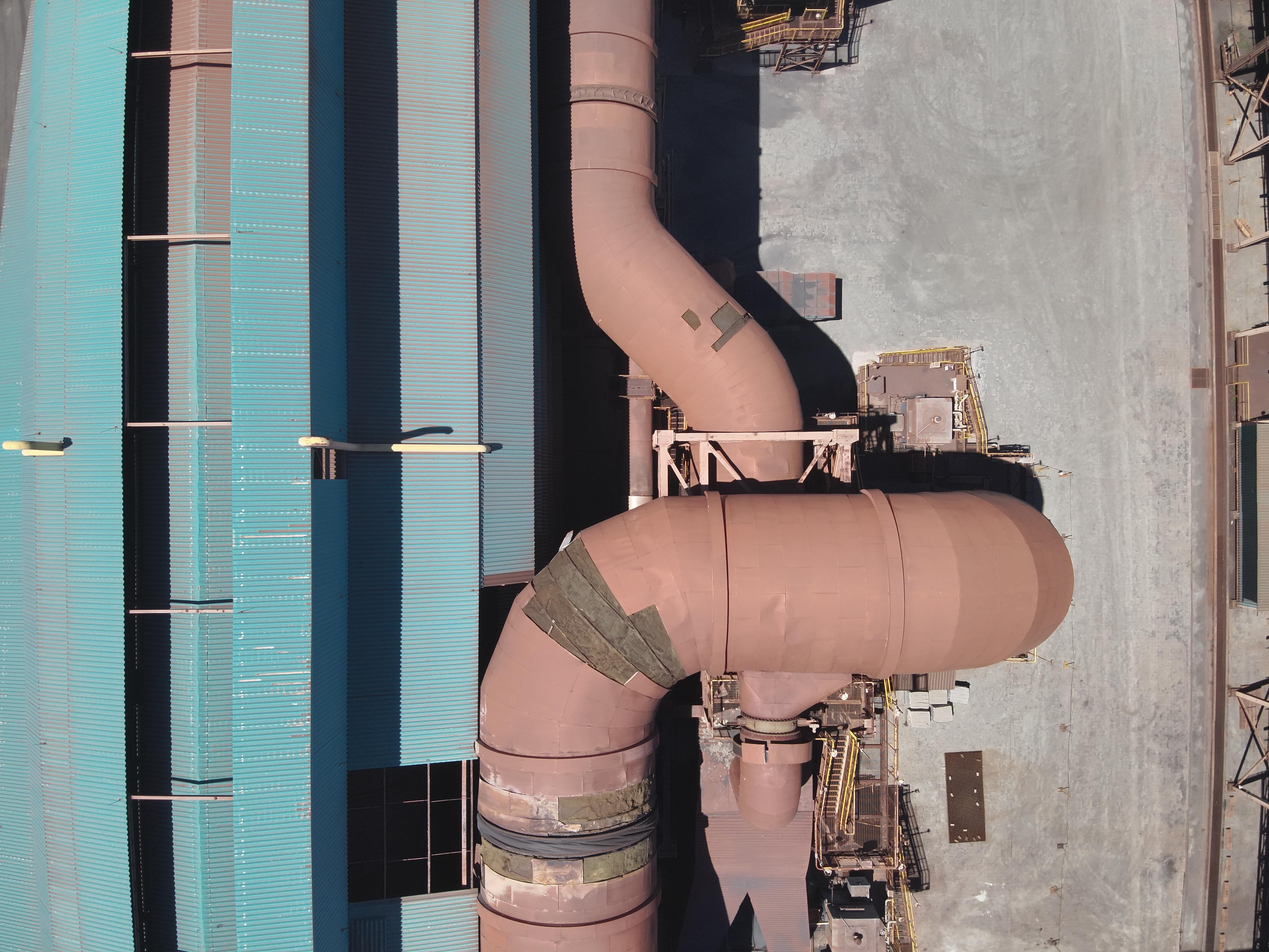Failures: (458, 766, 671, 897), (509, 545, 690, 693), (735, 729, 826, 780), (712, 299, 754, 359), (680, 306, 704, 335)
